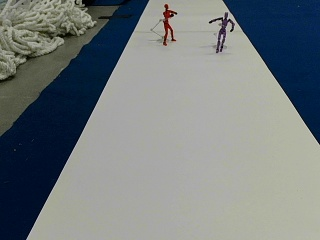pedestrian: (208, 11, 234, 51), (161, 3, 176, 45)
